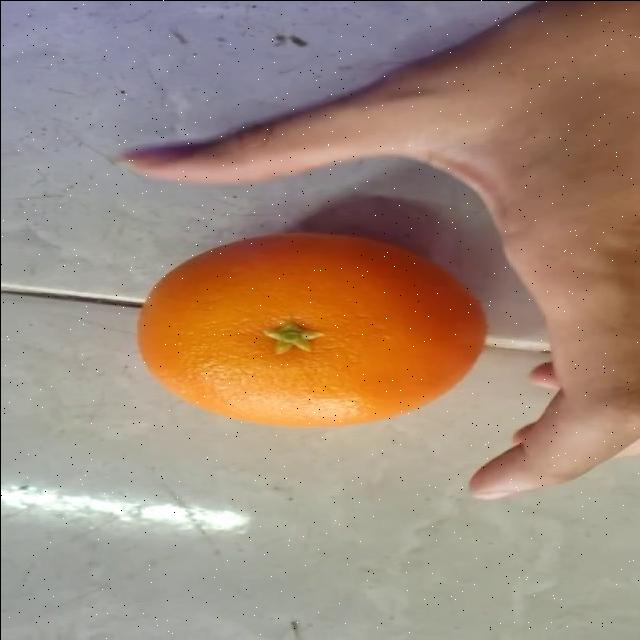Orange: (136, 230, 488, 429)
